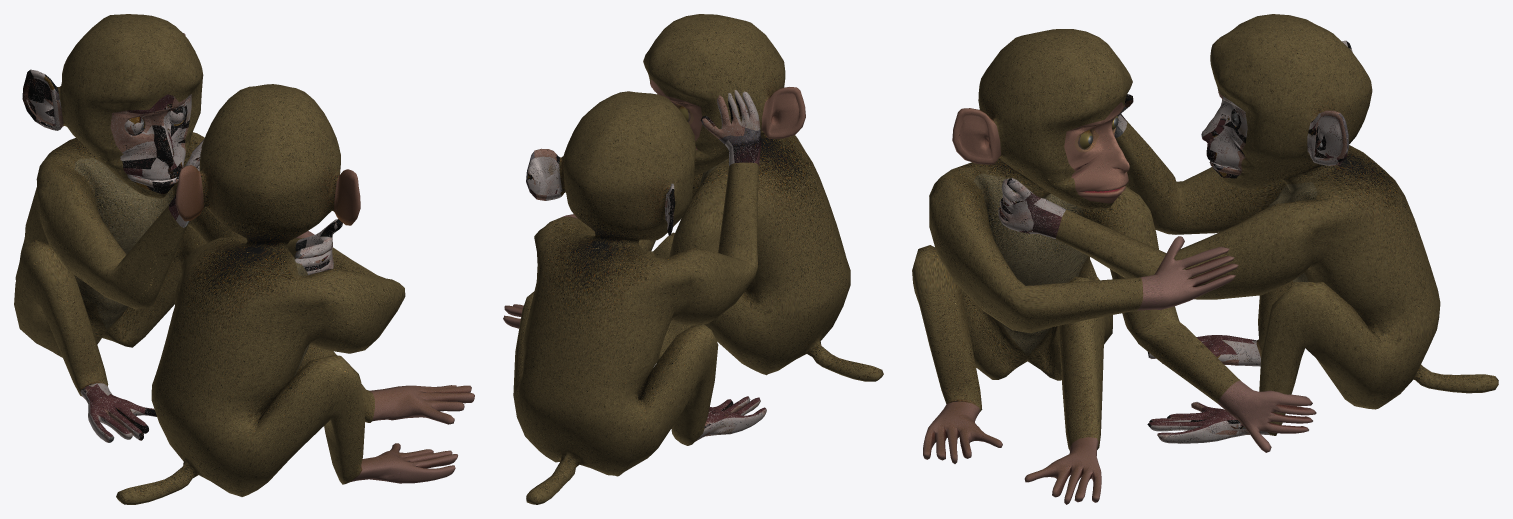
Rendered from monkey.dae.
3 views of the same model, side by side, from view 1: azimuth 30°, elevation 25°; view 2: azimuth 150°, elevation 25°; view 3: azimuth 270°, elevation 25° (orthographic). The views are drawn at different scales.
Visible parts, largest first — view 1: group_0 (×5), group_1 (×5); view 2: group_1 (×4), group_0 (×3); view 3: group_1 (×6), group_0 (×7).
Boxes of the visible parts, x1=… form: group_0 (×5): x1=116, y1=84, x2=474, y2=504; group_1 (×5): x1=14, y1=14, x2=342, y2=442; group_1 (×4): x1=513, y1=90, x2=766, y2=504; group_0 (×3): x1=643, y1=14, x2=883, y2=381; group_1 (×6): x1=998, y1=14, x2=1498, y2=443; group_0 (×7): x1=912, y1=29, x2=1316, y2=504.
Bounding box in the file's own units: 12.39 × 16.3 × 11.35.
4 materials, 3 textured.
